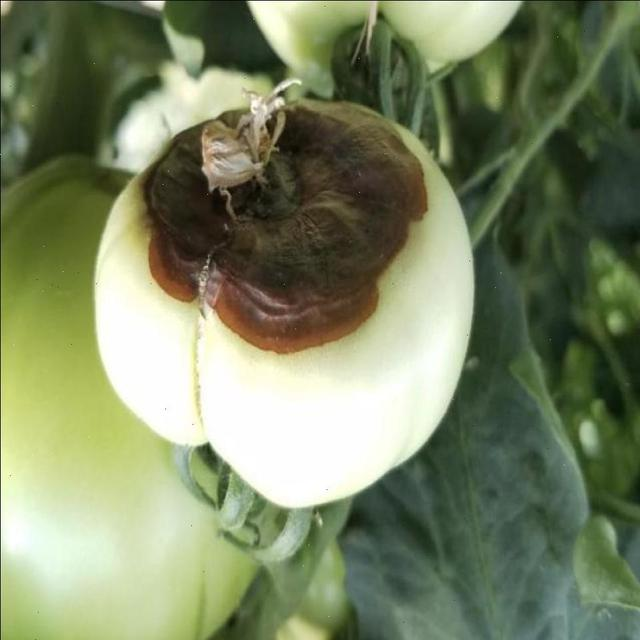Blossom End Rot Fruit: (94, 65, 289, 242)
